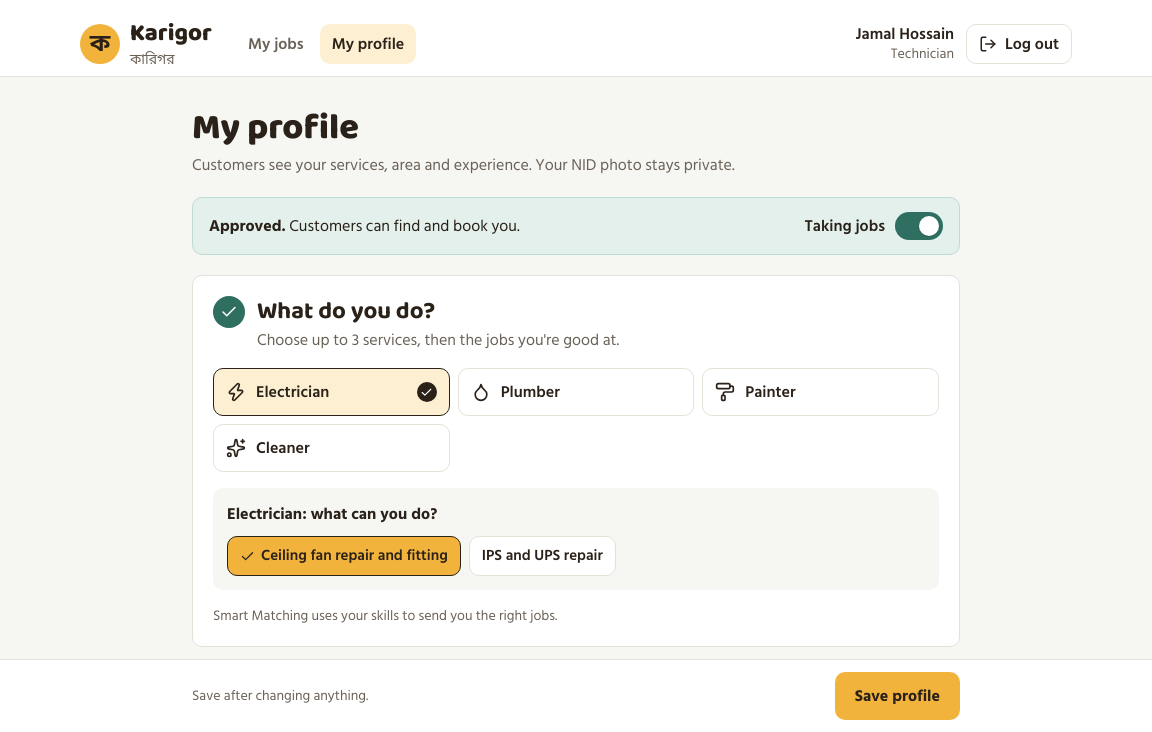
existing technician › lets an approved technician stop taking jobs
Click the switch labelled "Taking jobs" at (874, 226), box [804,212,943,240]
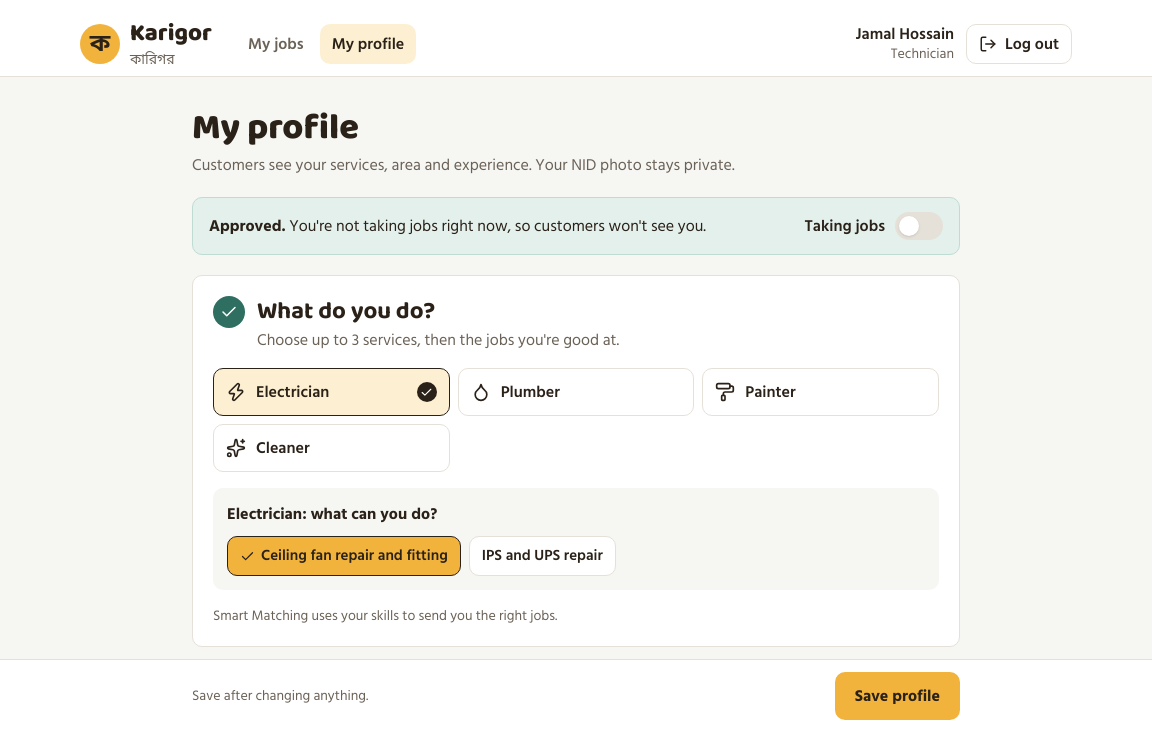
Result: the text "You're not taking jobs right now" is shown at [289,213,706,239]
